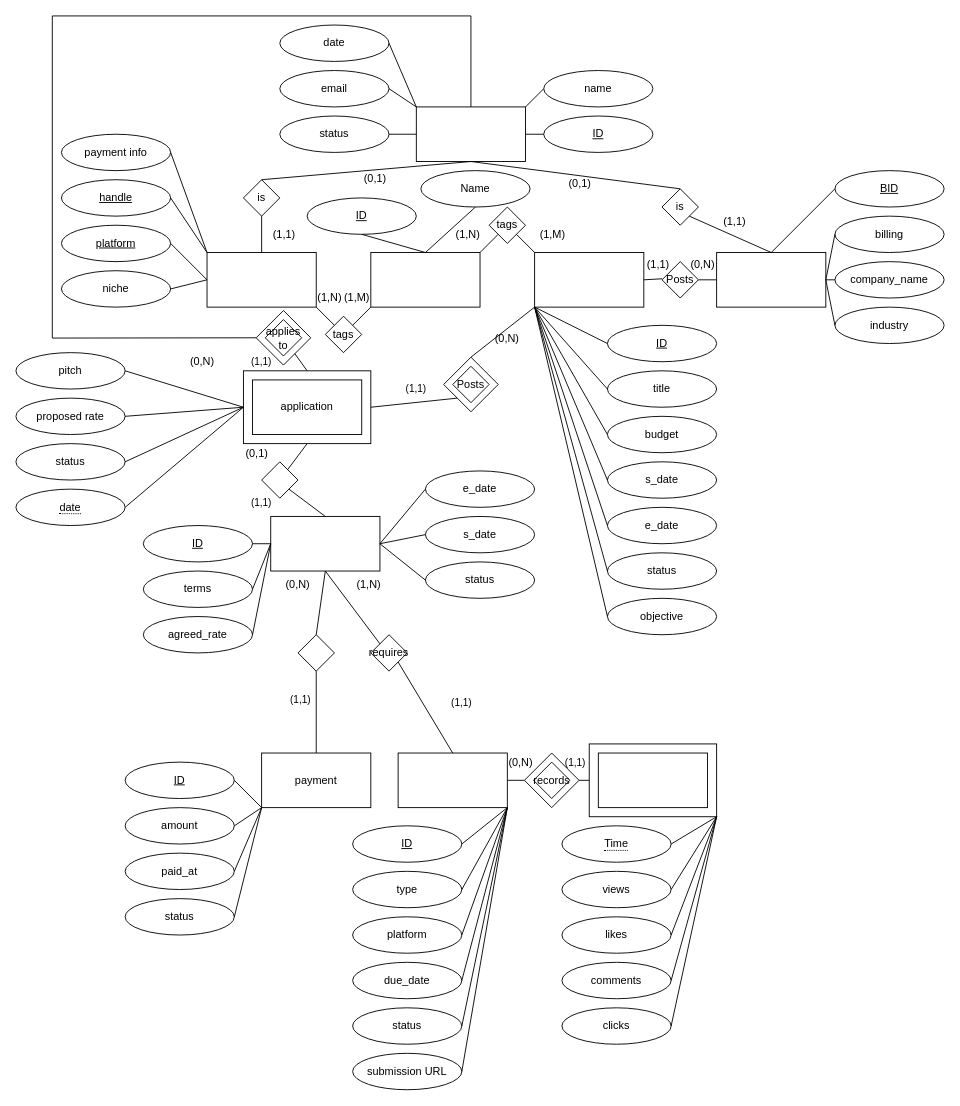
Some shapes in this 960 by 1106 pixel diagram are drawn without their labels. Here are the shapes that lost their labels. From the top down, the centre of each, then its label:
the point at 470,134: User
the point at 261,279: Influencer
the point at 425,279: category
the point at 589,279: campaign
the point at 771,279: Brand
the point at 279,479: creates
the point at 325,543: contract
the point at 315,652: pays
the point at 452,780: deliverable
the point at 652,780: metric snapshot
